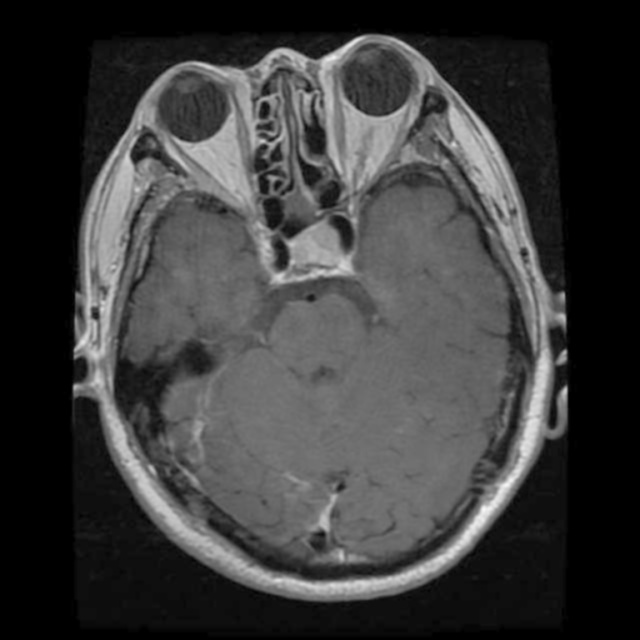no tumor: (281, 224, 371, 292)
